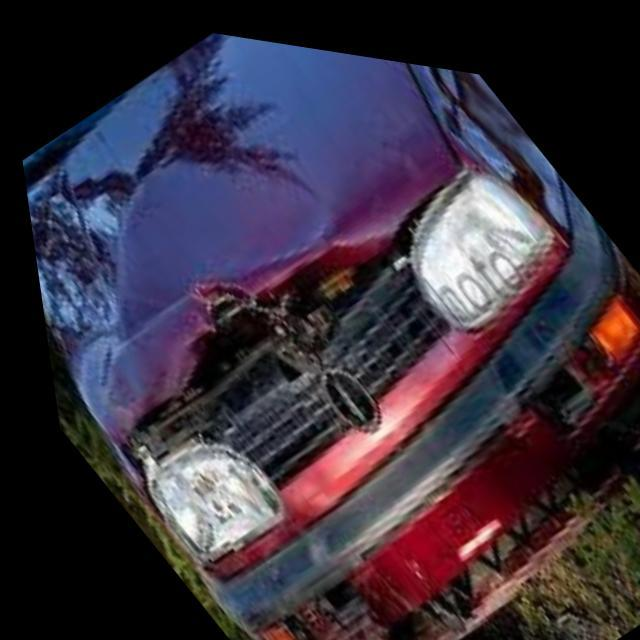dent: (437, 54, 557, 205)
dislocated part: (96, 148, 454, 486)
no part: (260, 454, 595, 640)
